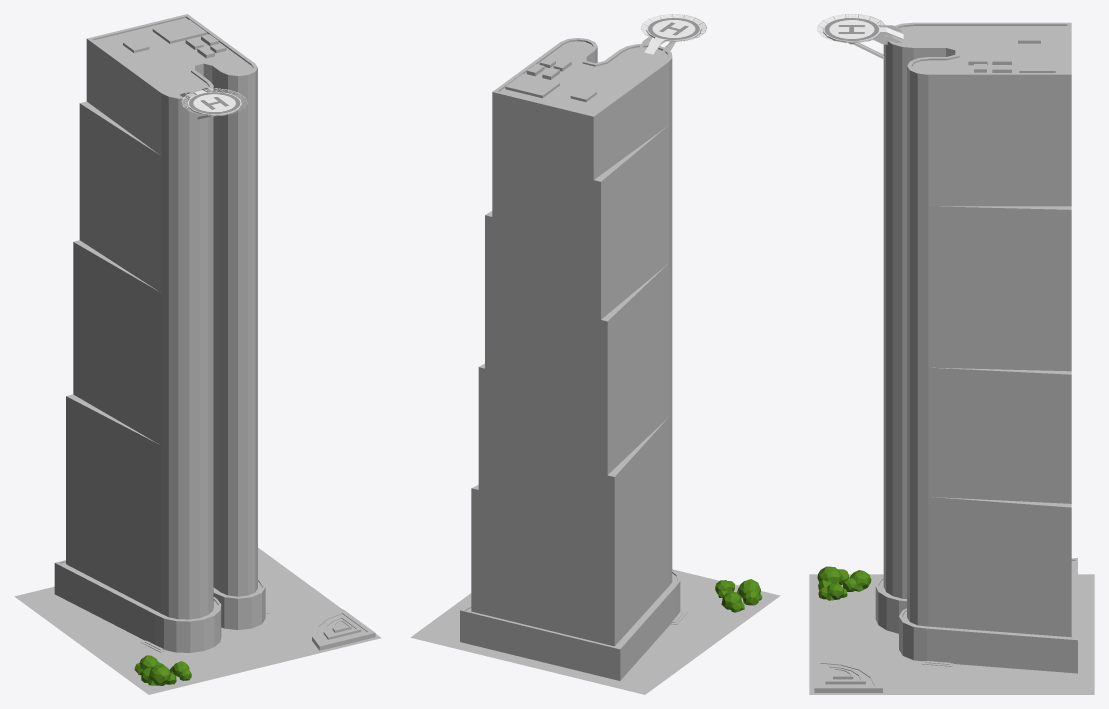
Rendered from Villa_Mega.fbx.
3 views of the same model, side by side, from view 1: azimuth 30°, elevation 25°; view 2: azimuth 150°, elevation 25°; view 3: azimuth 270°, elevation 25° (orthographic). The views are drawn at different scales.
Parts seen in each view (by area): view 1: Villa_Mega, Villa_Mega_BG, Villa_Mega_Fontain, HelicopterPlace, Villa_Mega_Bush; view 2: Villa_Mega, Villa_Mega_BG, HelicopterPlace, Villa_Mega_Bush; view 3: Villa_Mega, Villa_Mega_BG, Villa_Mega_Fontain, HelicopterPlace, Villa_Mega_Bush, HelicopterPlace_Alpha_DoubleSided.
Part boxes in pixels (<box>): Villa_Mega: <box>54,14,269,652</box>; Villa_Mega_BG: <box>14,547,381,694</box>; Villa_Mega_Fontain: <box>312,609,375,650</box>; HelicopterPlace: <box>180,87,241,119</box>; Villa_Mega_Bush: <box>134,655,191,685</box>; Villa_Mega: <box>460,38,687,680</box>; Villa_Mega_BG: <box>410,569,780,694</box>; HelicopterPlace: <box>637,17,701,56</box>; Villa_Mega_Bush: <box>715,579,762,612</box>; Villa_Mega: <box>875,22,1077,673</box>; Villa_Mega_BG: <box>809,574,1094,694</box>; Villa_Mega_Fontain: <box>814,659,882,692</box>; HelicopterPlace: <box>823,17,903,59</box>; Villa_Mega_Bush: <box>817,566,871,600</box>; HelicopterPlace_Alpha_DoubleSided: <box>817,14,885,42</box>.
Size of the model in its own units: 4000 by 9132 by 4000.
